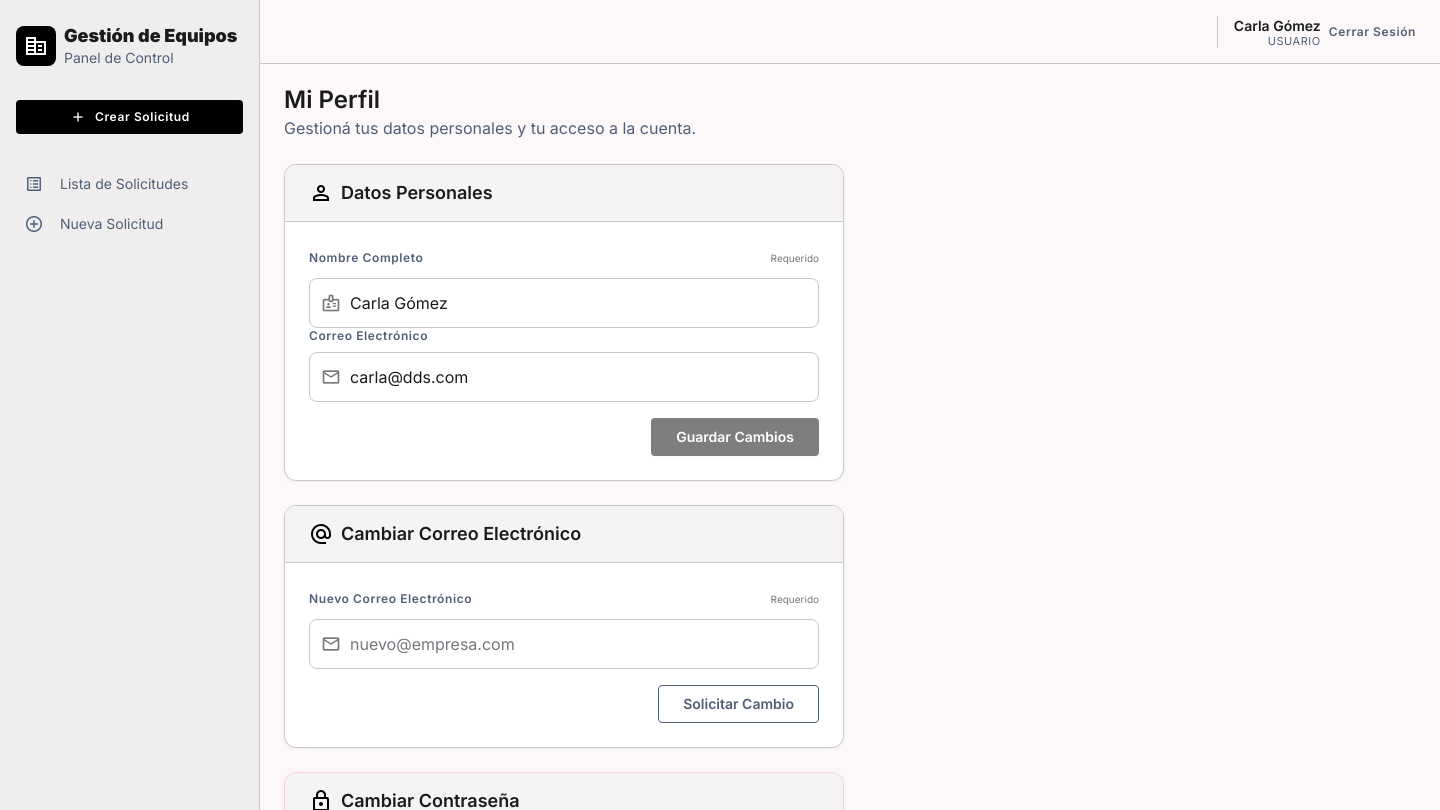
Scenario: PerfilPage › solicita el cambio de email y muestra el mensaje de confirmación
Check: the field showing "Carla Gómez" is shown, box [309,278,819,328]
Type "nuevo@dds.com" into the field labelled "Nuevo Correo Electrónico" at point(564, 644), box [309,619,819,669]
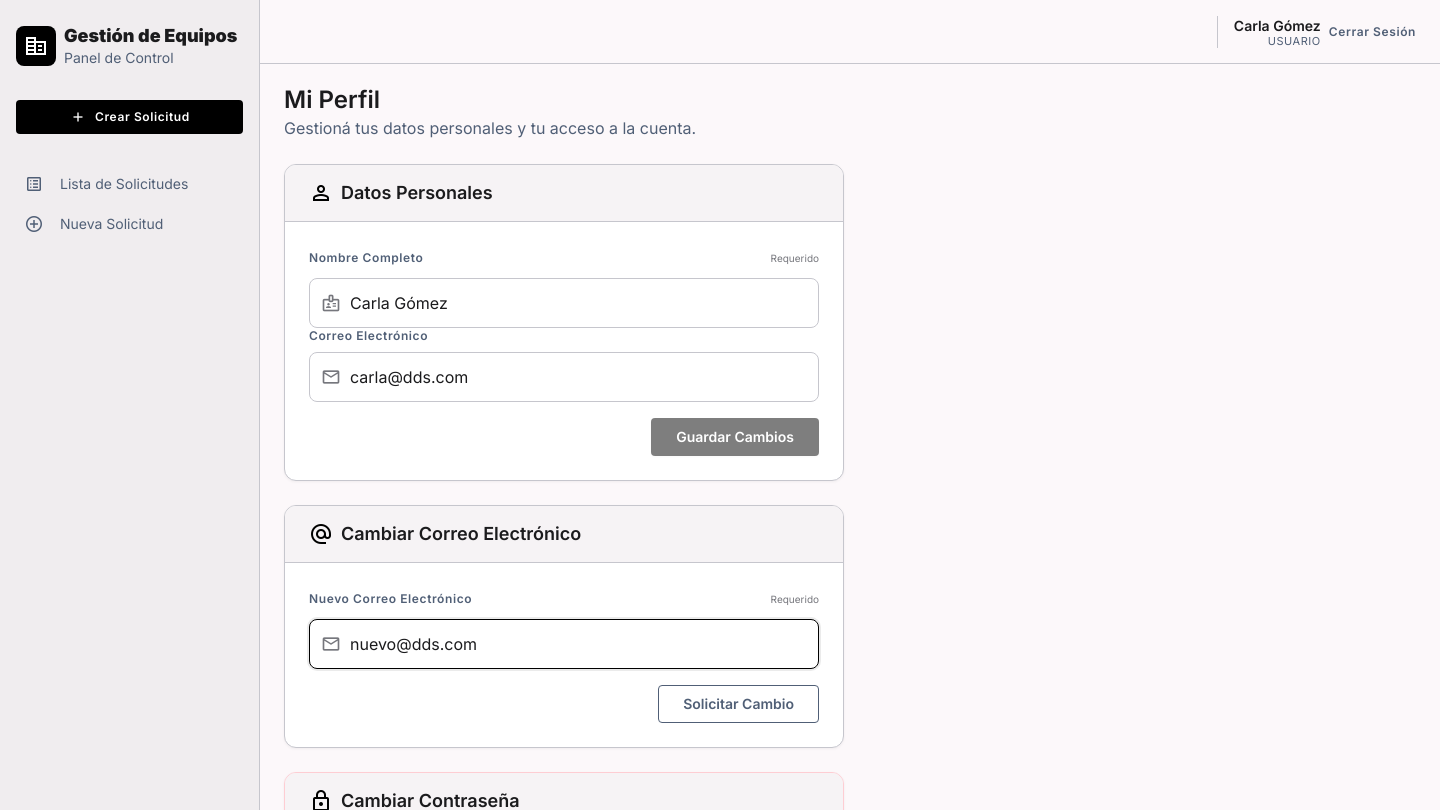
Click the button "Solicitar Cambio" at point(739, 704), box [658,685,819,723]
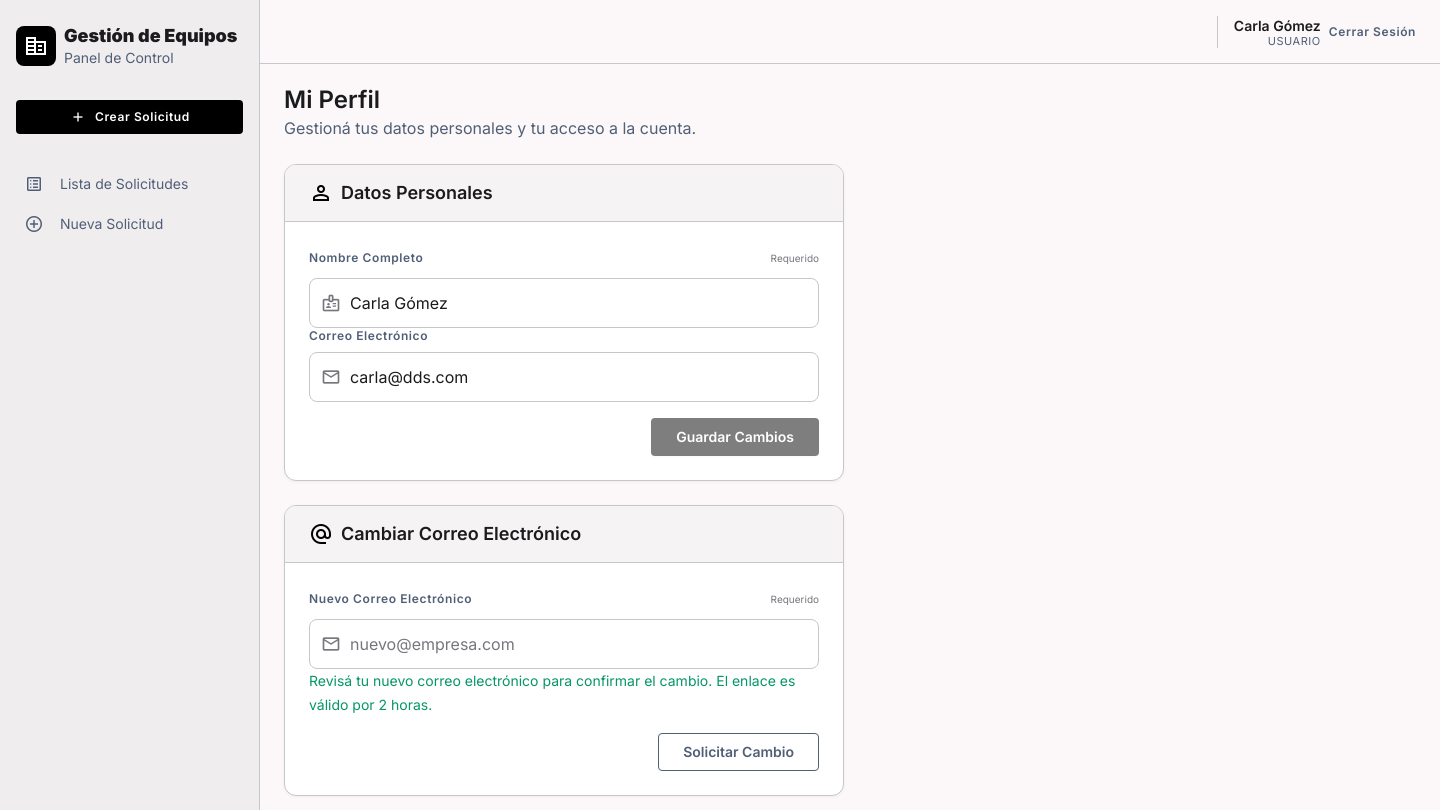
Check: the text "Revisá tu nuevo correo" is shown, box [309,672,795,713]
